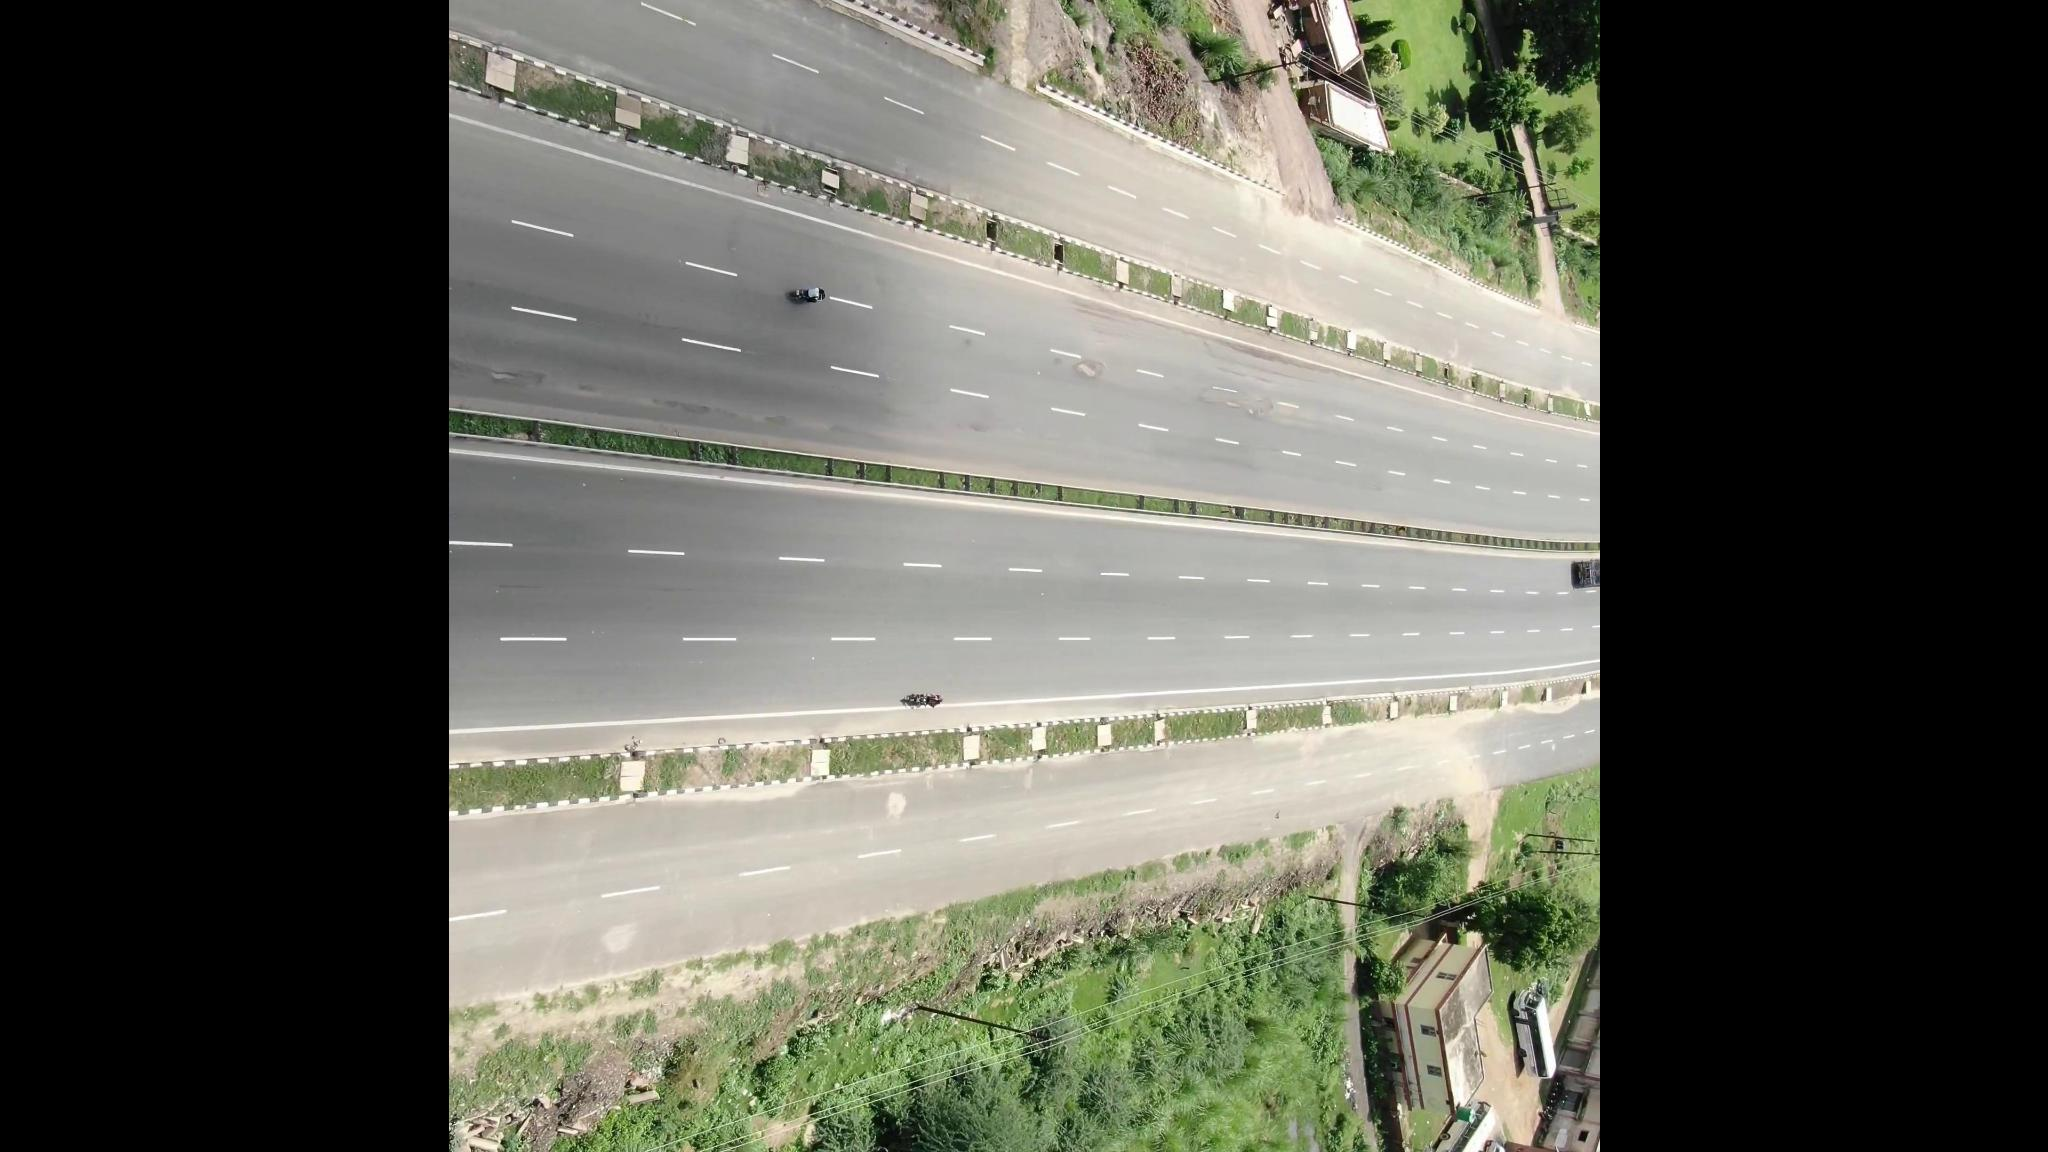Potholes: (1190, 397, 1280, 430), (1063, 347, 1132, 385)
